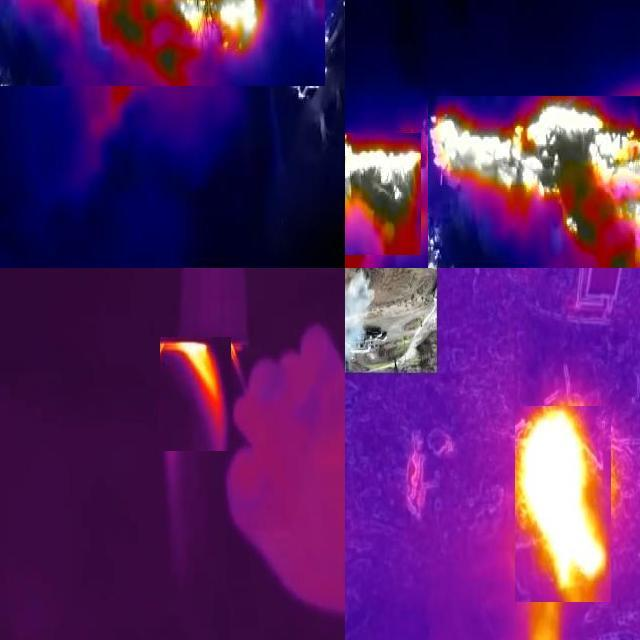fire: (429, 97, 640, 269), (1, 1, 326, 87), (516, 407, 612, 603), (346, 134, 422, 256), (161, 338, 232, 452)
